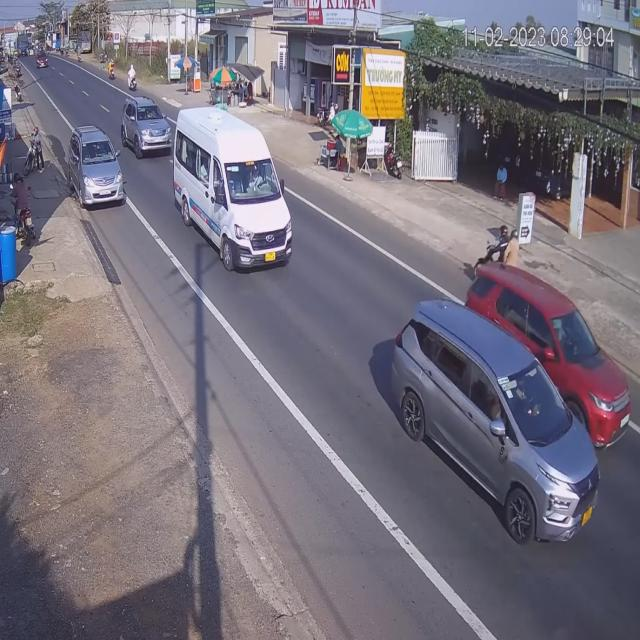bus: (172, 108, 293, 270)
car: (388, 304, 597, 547), (479, 261, 634, 437), (68, 127, 126, 209), (122, 98, 175, 161)
motorbike: (128, 65, 139, 91)
